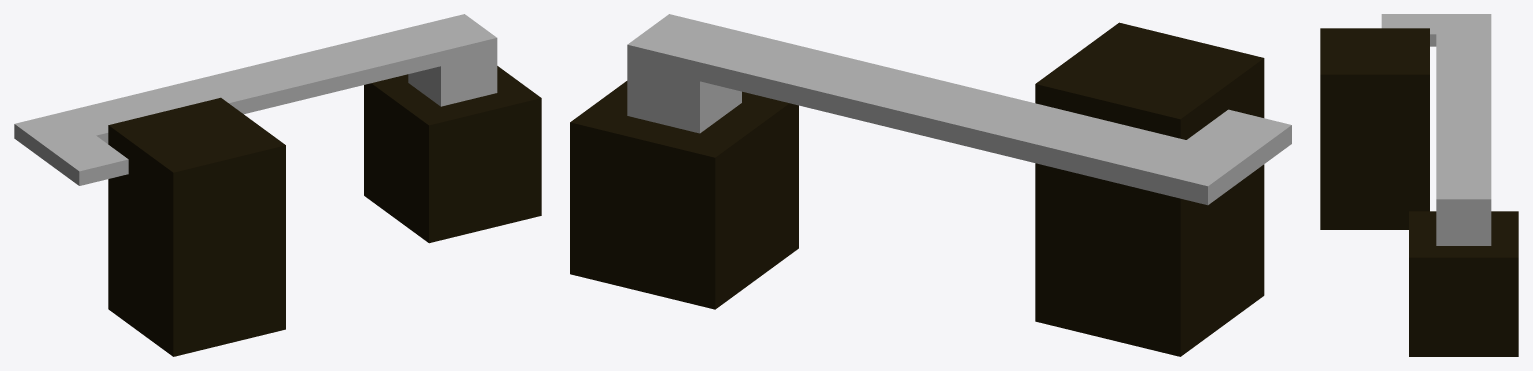
File: latch.fbx
3 renders of one model, left to right at view 1: azimuth 30°, elevation 25°; view 2: azimuth 150°, elevation 25°; view 3: azimuth 270°, elevation 25°, orthographic. The views are drawn at different scales.
Parts seen in each view (by area): view 1: latch_hook_stopper, latch, latch_hook; view 2: latch_hook_stopper, latch_hook, latch; view 3: latch_hook_stopper, latch, latch_hook.
Boxes of the visible parts, <box> form: latch_hook_stopper: <box>108,97,285,356</box>; latch: <box>364,66,541,243</box>; latch_hook: <box>14,14,497,185</box>; latch_hook_stopper: <box>1035,22,1264,356</box>; latch_hook: <box>627,14,1291,205</box>; latch: <box>570,81,798,309</box>; latch_hook_stopper: <box>1320,28,1429,229</box>; latch: <box>1409,211,1518,356</box>; latch_hook: <box>1381,14,1491,245</box>.
Size of the model in its own units: 4.25 by 1.56 by 1.81.
